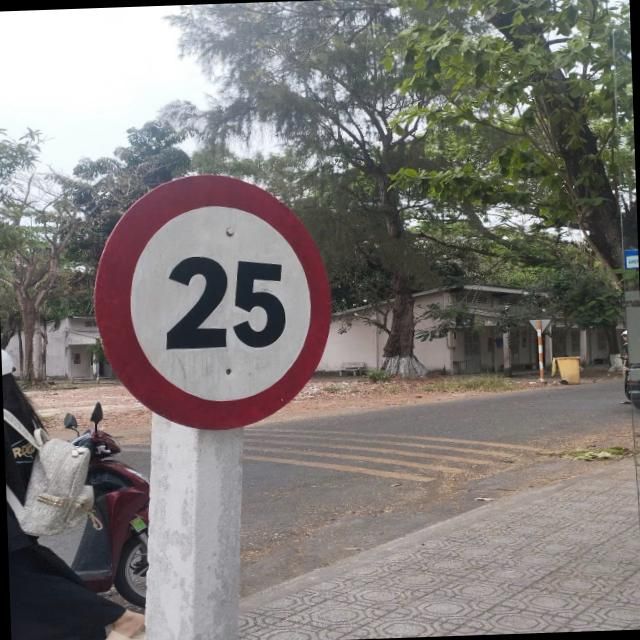Tre_Em: (90, 168, 342, 434)
